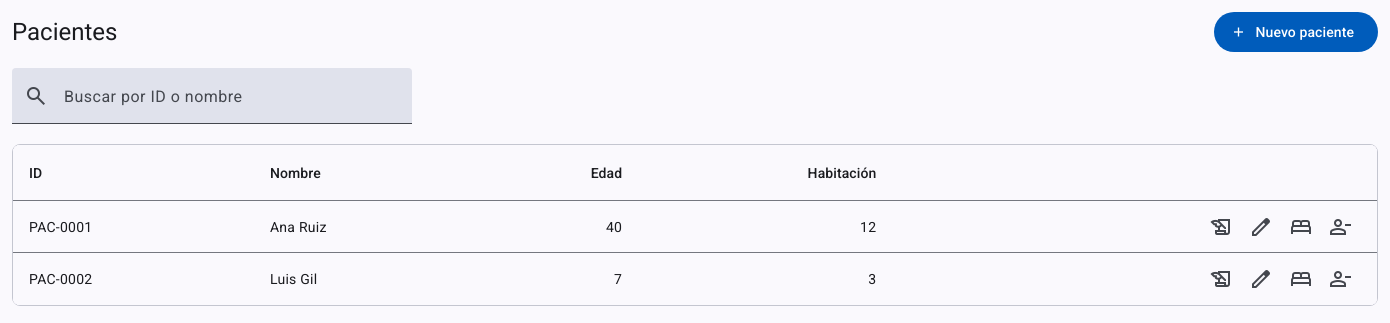
it: PacientesListaComponent › busca en el servidor tras dejar de escribir
In the search field labelled "Buscar por ID o nombre": (230, 104) x1=64 y1=92 x2=396 y2=116, type " ana "
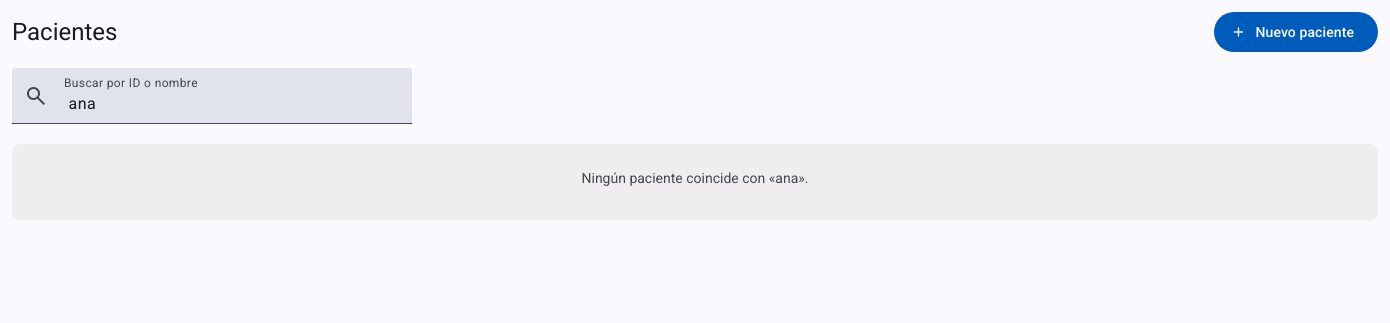
Now the text "Ningún paciente coincide con «ana»." is shown, box x1=582 y1=170 x2=808 y2=186
